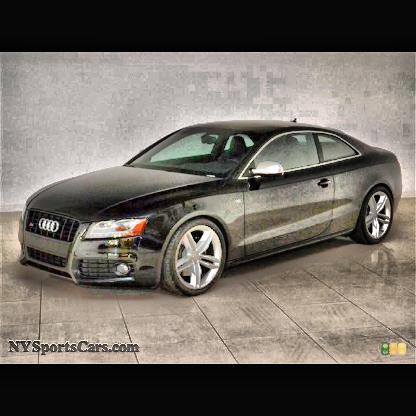Audi S5 Coupe 2012: (22, 116, 405, 298)
